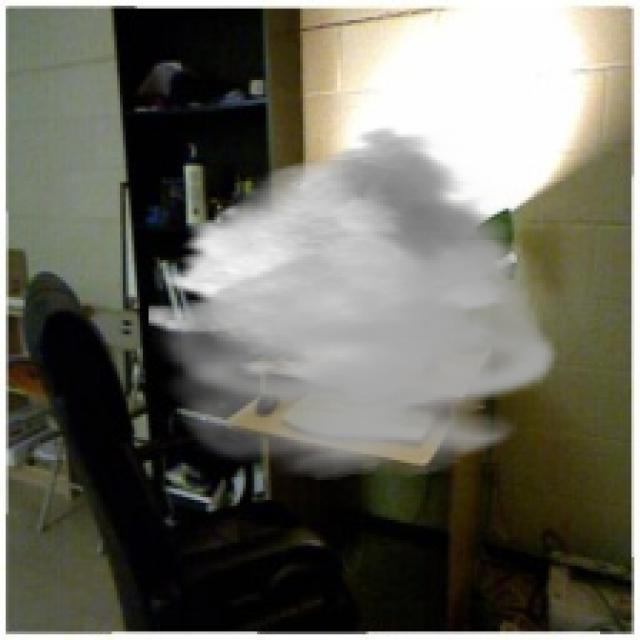smoke: (148, 126, 563, 480)
